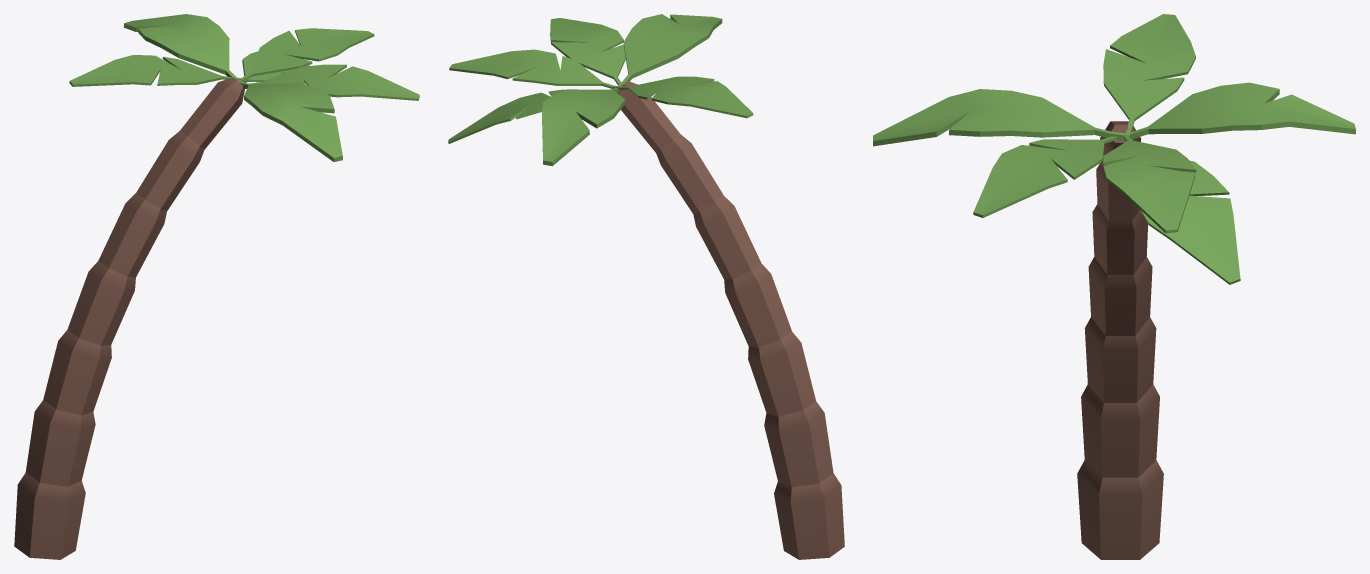
The model's file is Palmera.fbx.
3 views of the same model, side by side, from view 1: azimuth 30°, elevation 25°; view 2: azimuth 150°, elevation 25°; view 3: azimuth 270°, elevation 25° (orthographic). The views are drawn at different scales.
Visible parts, largest first — view 1: pPlane5; view 2: pPlane5; view 3: pPlane5.
Part boxes in pixels (x1,y1,x2,y2): pPlane5: (14, 14, 419, 559); pPlane5: (448, 14, 844, 559); pPlane5: (873, 14, 1355, 559).
Size of the model in its own units: 8.67 by 10 by 7.76.
